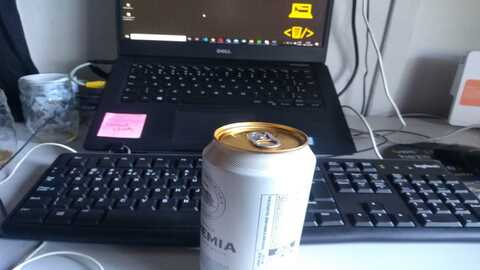bohemia: (197, 122, 317, 270)
